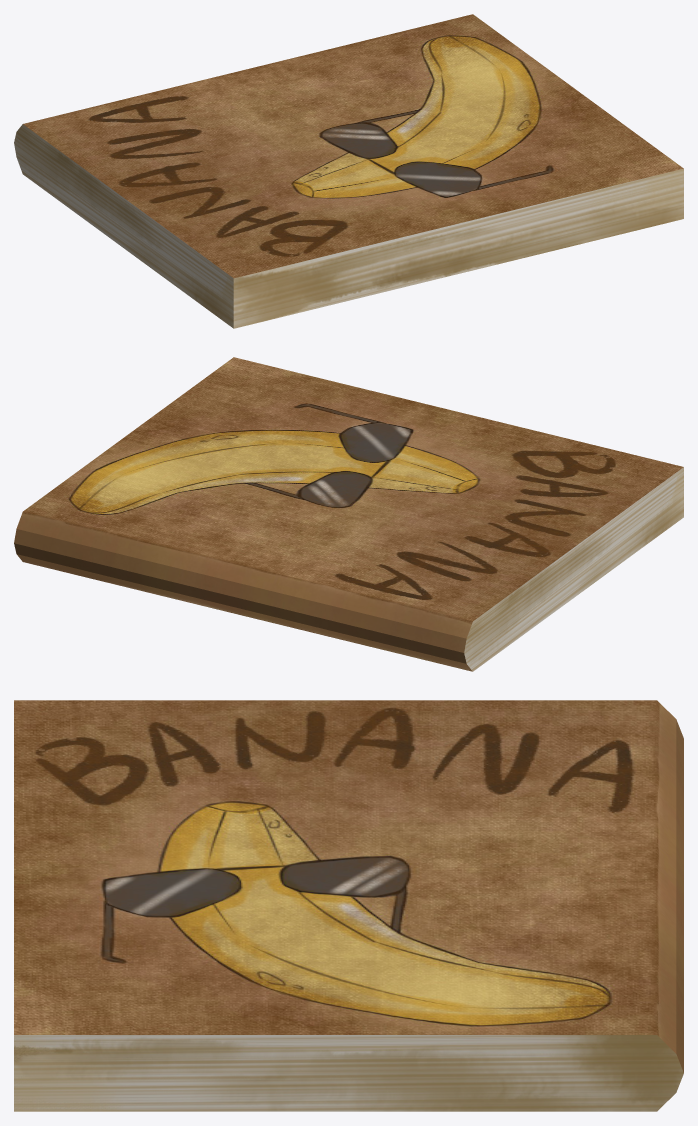
Rendered from book.fbx.
3 renders of one model, top to bottom at view 1: azimuth 30°, elevation 25°; view 2: azimuth 150°, elevation 25°; view 3: azimuth 270°, elevation 25°, orthographic. The views are drawn at different scales.
Parts seen in each view (by area): view 1: book; view 2: book; view 3: book.
Part boxes in pixels (x1,y1,x2,y2): book: [14, 14, 683, 328]; book: [14, 357, 683, 671]; book: [14, 700, 683, 1111].
Bounding box in the file's own units: 22.18 × 2.37 × 18.76.
